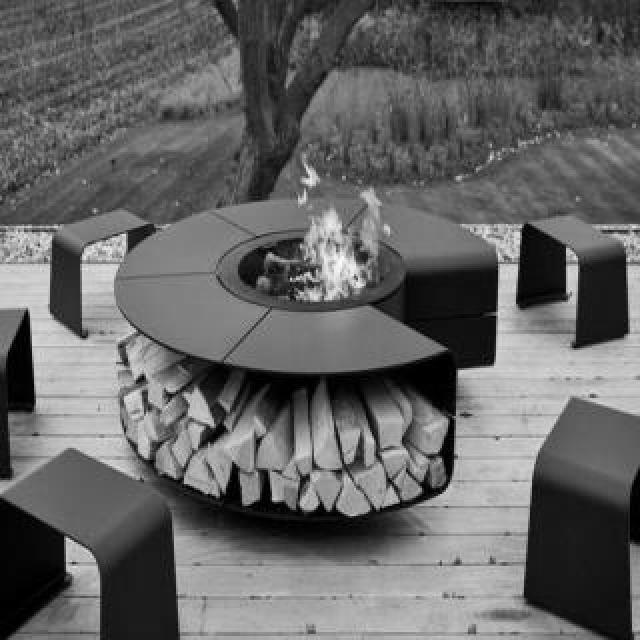Fire: (288, 162, 392, 296)
